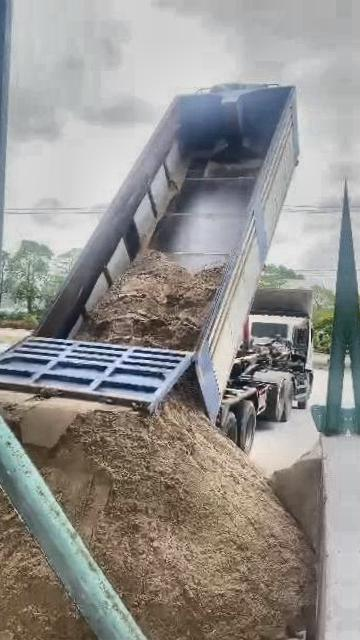sand: (0, 392, 314, 640), (0, 466, 115, 640), (76, 251, 222, 349), (271, 443, 324, 551), (172, 365, 204, 409)
